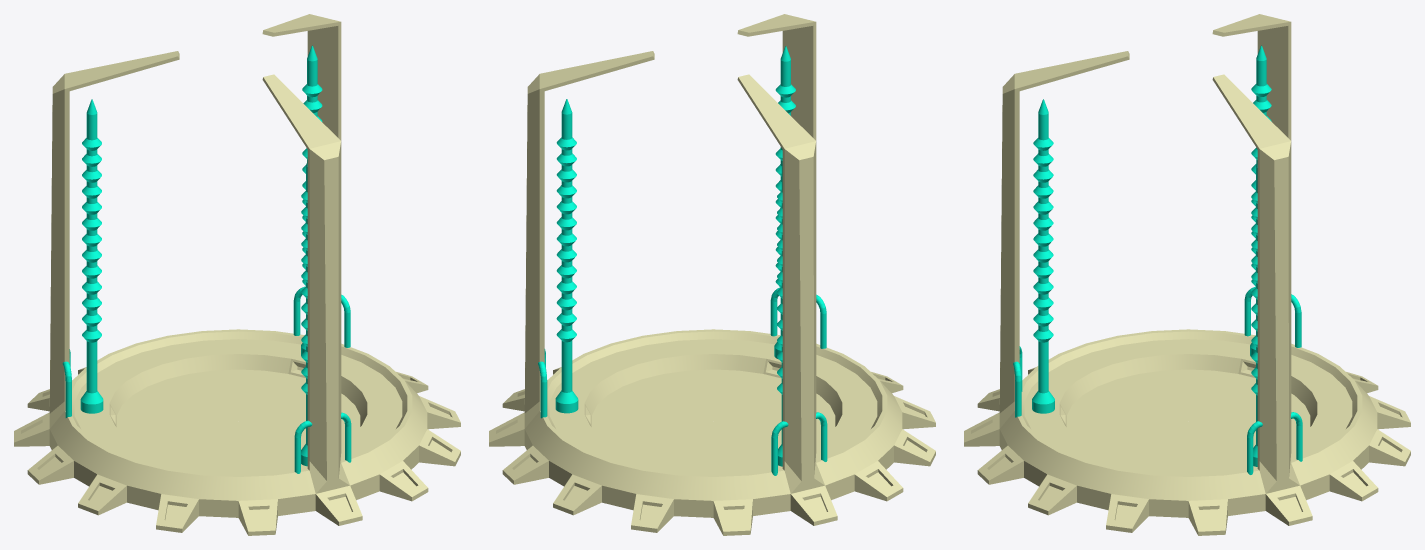
The model's file is teleportation-pad.fbx.
3 views of the same model, side by side, from view 1: azimuth 30°, elevation 25°; view 2: azimuth 150°, elevation 25°; view 3: azimuth 270°, elevation 25° (orthographic).
Visible parts, largest first — view 1: teleport_pad, teleport_pylon2, teleport_pylon1, teleport_pylon3, teleporter_pipes1, teleporter_pipes2; view 2: teleport_pad, teleport_pylon3, teleport_pylon1, teleport_pylon2, teleporter_pipes3, teleporter_pipes1; view 3: teleport_pad, teleport_pylon1, teleport_pylon2, teleport_pylon3, teleporter_pipes2, teleporter_pipes3.
Boxes of the visible parts, x1,y1,x2,y2 form: teleport_pad: [14, 14, 460, 535]; teleport_pylon2: [80, 99, 103, 413]; teleport_pylon1: [301, 161, 307, 466]; teleport_pylon3: [301, 45, 322, 355]; teleporter_pipes1: [294, 412, 351, 473]; teleporter_pipes2: [293, 286, 350, 347]; teleport_pad: [489, 14, 935, 535]; teleport_pylon3: [555, 99, 578, 413]; teleport_pylon1: [774, 46, 795, 359]; teleport_pylon2: [777, 164, 782, 466]; teleporter_pipes3: [771, 412, 827, 475]; teleporter_pipes1: [770, 287, 826, 348]; teleport_pad: [964, 14, 1410, 535]; teleport_pylon1: [1032, 99, 1054, 413]; teleport_pylon2: [1250, 45, 1271, 356]; teleport_pylon3: [1251, 162, 1257, 466]; teleporter_pipes2: [1247, 412, 1302, 474]; teleporter_pipes3: [1244, 286, 1301, 347].
Bounding box in the file's own units: 104 × 99.37 × 104.
